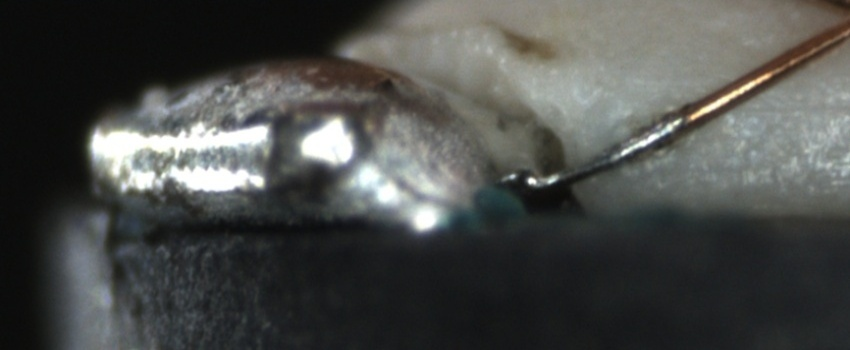DL: (718, 79, 849, 138)
TS: (524, 111, 686, 195)
TTCW: (503, 92, 736, 192)
